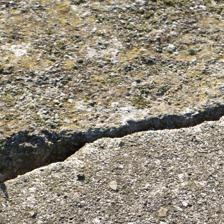Crack: (3, 51, 218, 137)
